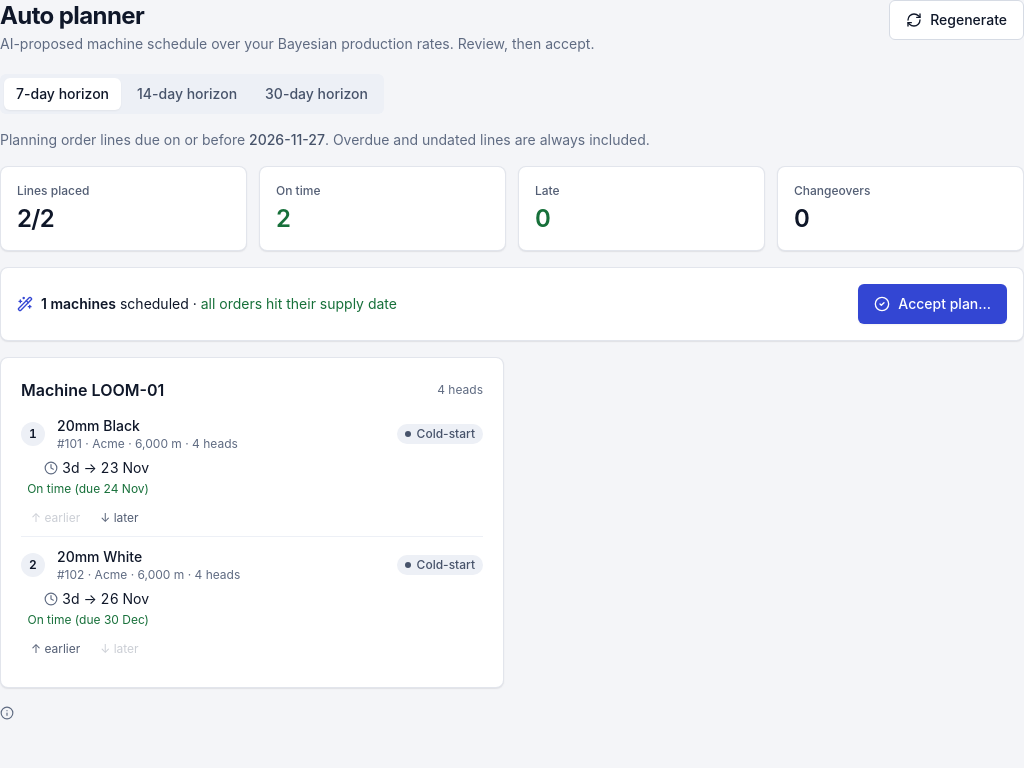
Test case: moving a line on the plan › the accept dialog speaks of the plan being accepted, not the one proposed
Click the button with aria-label "Move 20mm Black later" at [120, 518], box [94,508,145,528]
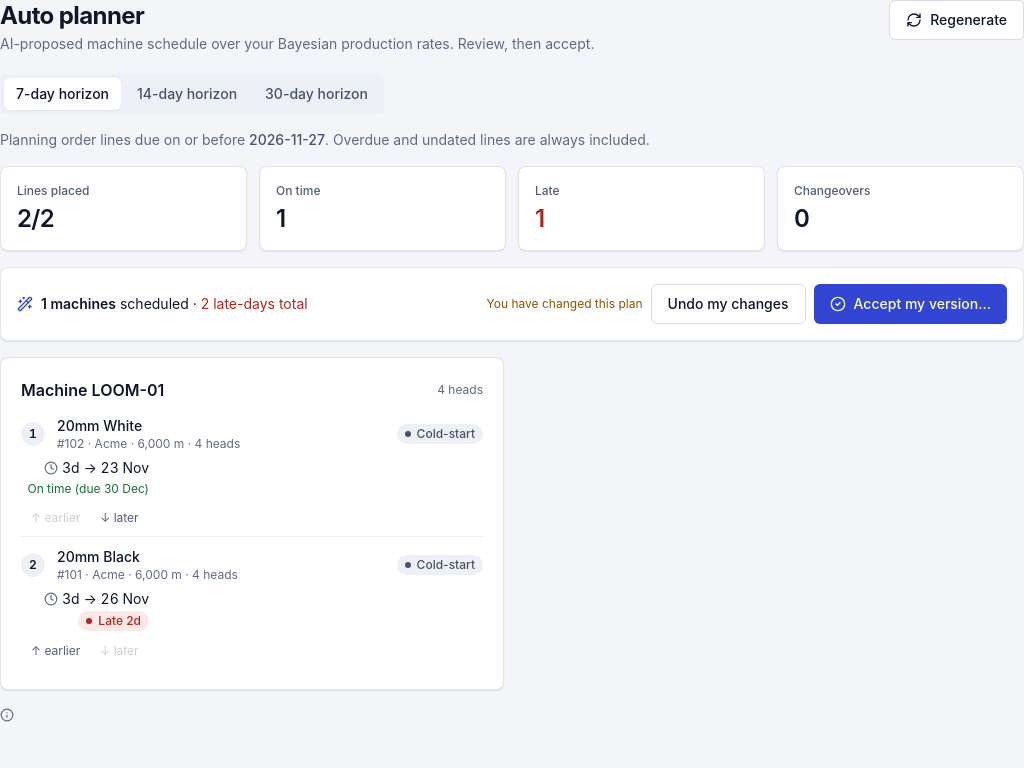
Check: the text "Late 2d" is shown, box [98,612,141,628]
Click the button "Accept my version…" at [910, 304], box [814,284,1007,324]
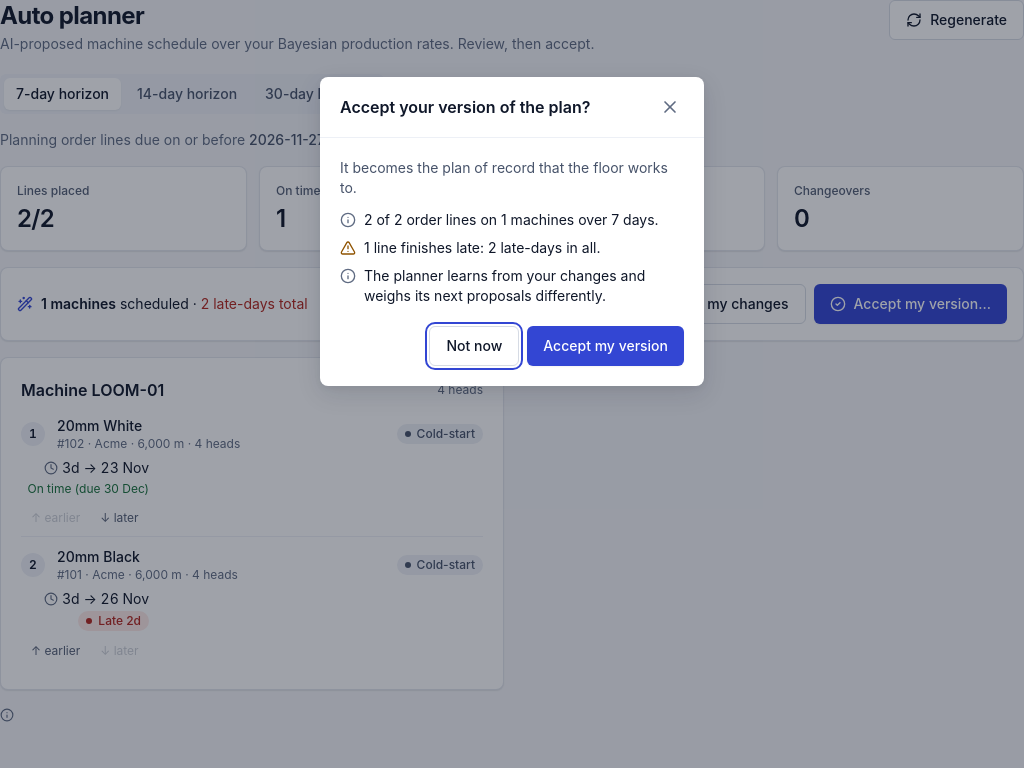
Check: the text "1 line finishes late: 2 late-days in all." is shown, box [364,238,600,258]
